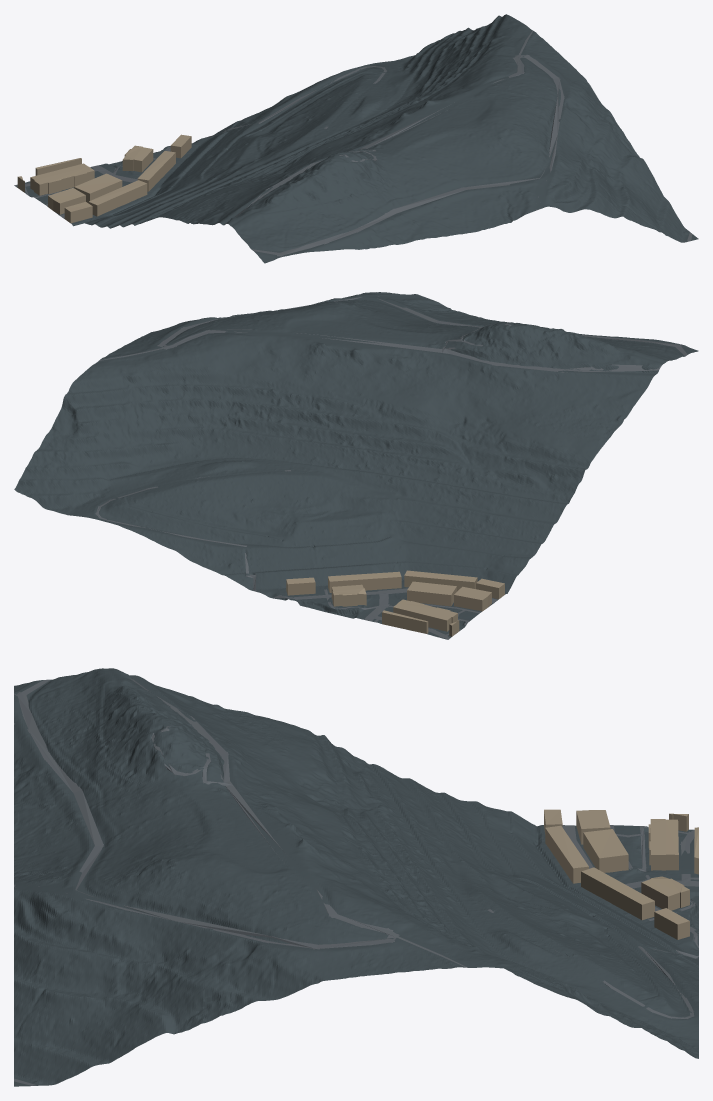
The model's file is epsg26910-1441-10870.lod0.glb.
3 views of the same model, one above another, from view 1: azimuth 30°, elevation 25°; view 2: azimuth 150°, elevation 25°; view 3: azimuth 270°, elevation 25° (orthographic). The views are drawn at different scales.
Visible parts, largest first — view 1: epsg26910-1441-10870-lod0; view 2: epsg26910-1441-10870-lod0; view 3: epsg26910-1441-10870-lod0.
Boxes of the visible parts, left/top/right/bottom form: epsg26910-1441-10870-lod0: left=14, top=14, right=698, bottom=263; epsg26910-1441-10870-lod0: left=14, top=292, right=698, bottom=639; epsg26910-1441-10870-lod0: left=14, top=668, right=698, bottom=1086.
Bounding box in the file's own units: 384 × 121 × 384.
